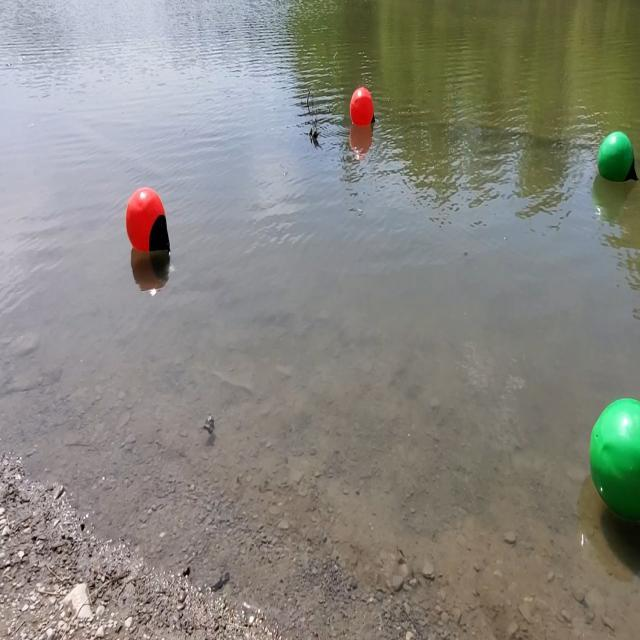buoy: (590, 398, 638, 524), (128, 188, 172, 260), (596, 129, 638, 186), (352, 86, 376, 128)
